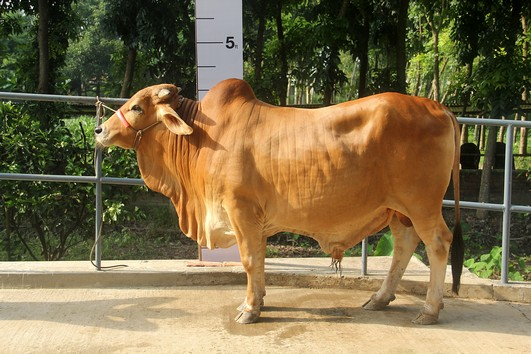cow: (90, 75, 470, 329)
